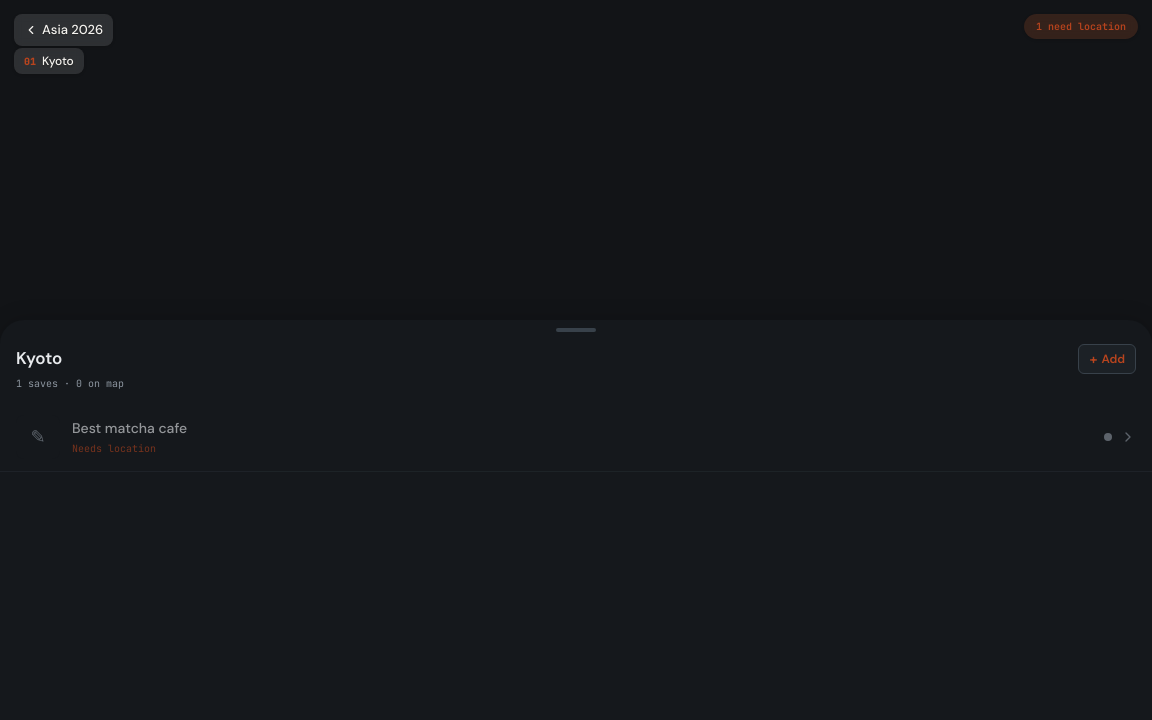
Test: Quick picker flow — destination page integration › tapping a "needs location" item opens the QuickLocationPicker
The width and height of the screenshot is (1152, 720).
Expected: the text "Needs location" is shown, top-left (72, 442), bottom-right (156, 455)
// Tap the item row
Click the button with test id "sheet-item-body-needs-loc-1".
click(38, 437)  # box top-left (0, 403), bottom-right (1116, 471)
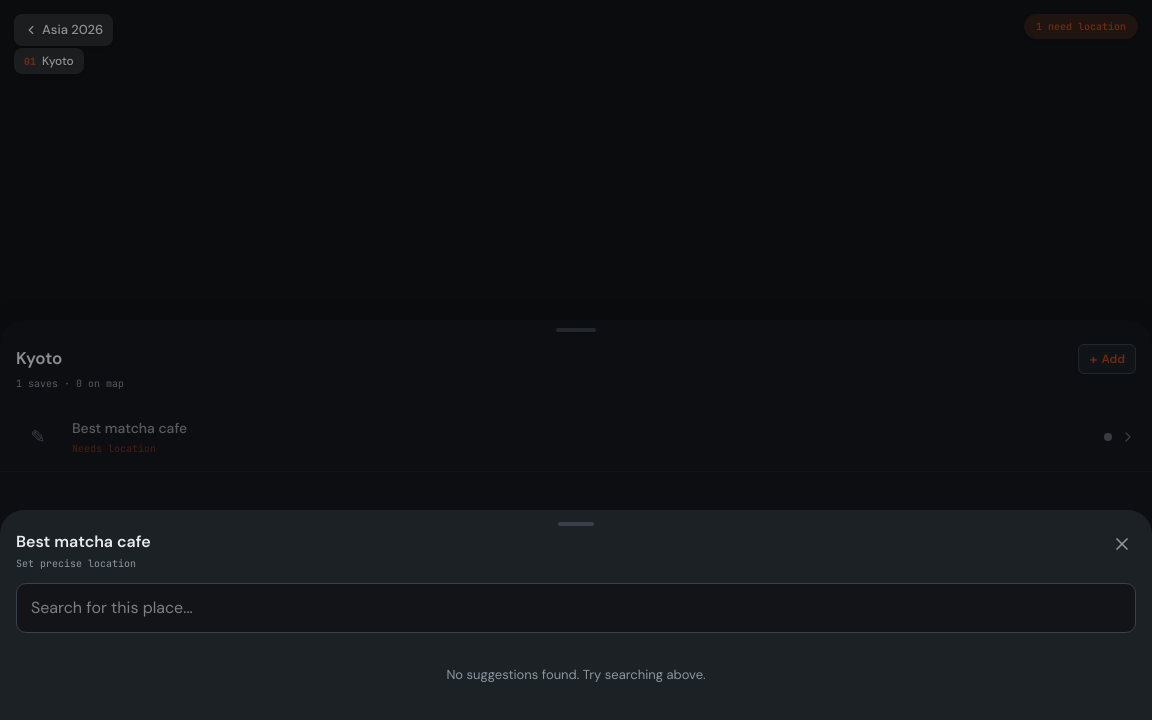
Now the element with test id "quick-location-picker" is shown, box top-left (0, 510), bottom-right (1151, 719)
Now the heading with test id "quick-picker-title" reads "Best matcha cafe", box top-left (16, 530), bottom-right (151, 552)
